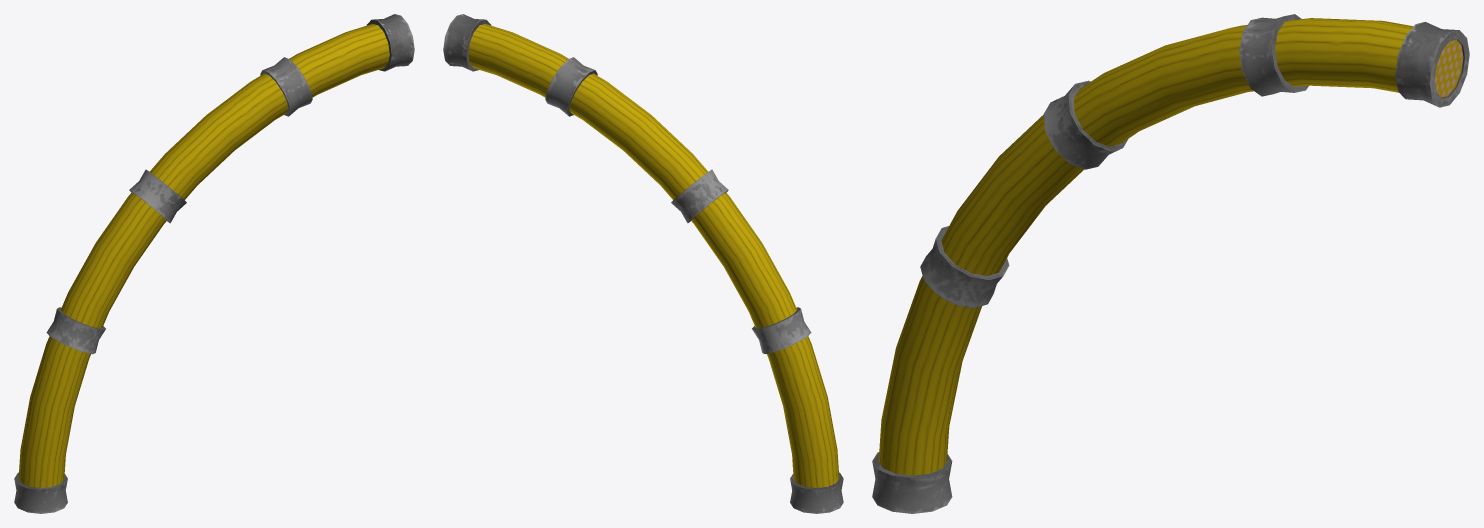
The model's file is ElectricalWires01_05.glb.
3 views of the same model, side by side, from view 1: azimuth 30°, elevation 25°; view 2: azimuth 150°, elevation 25°; view 3: azimuth 330°, elevation 25° (orthographic). The views are drawn at different scales.
Visible parts, largest first — view 1: Circle_002; view 2: Circle_002; view 3: Circle_002.
Part boxes in pixels (left/top/right/bottom): Circle_002: left=14, top=14, right=414, bottom=513; Circle_002: left=443, top=14, right=843, bottom=513; Circle_002: left=872, top=14, right=1469, bottom=513.
Size of the model in its own units: 0.6459 by 0.6423 by 0.0784.
Materials: 1 (1 with a texture image).
